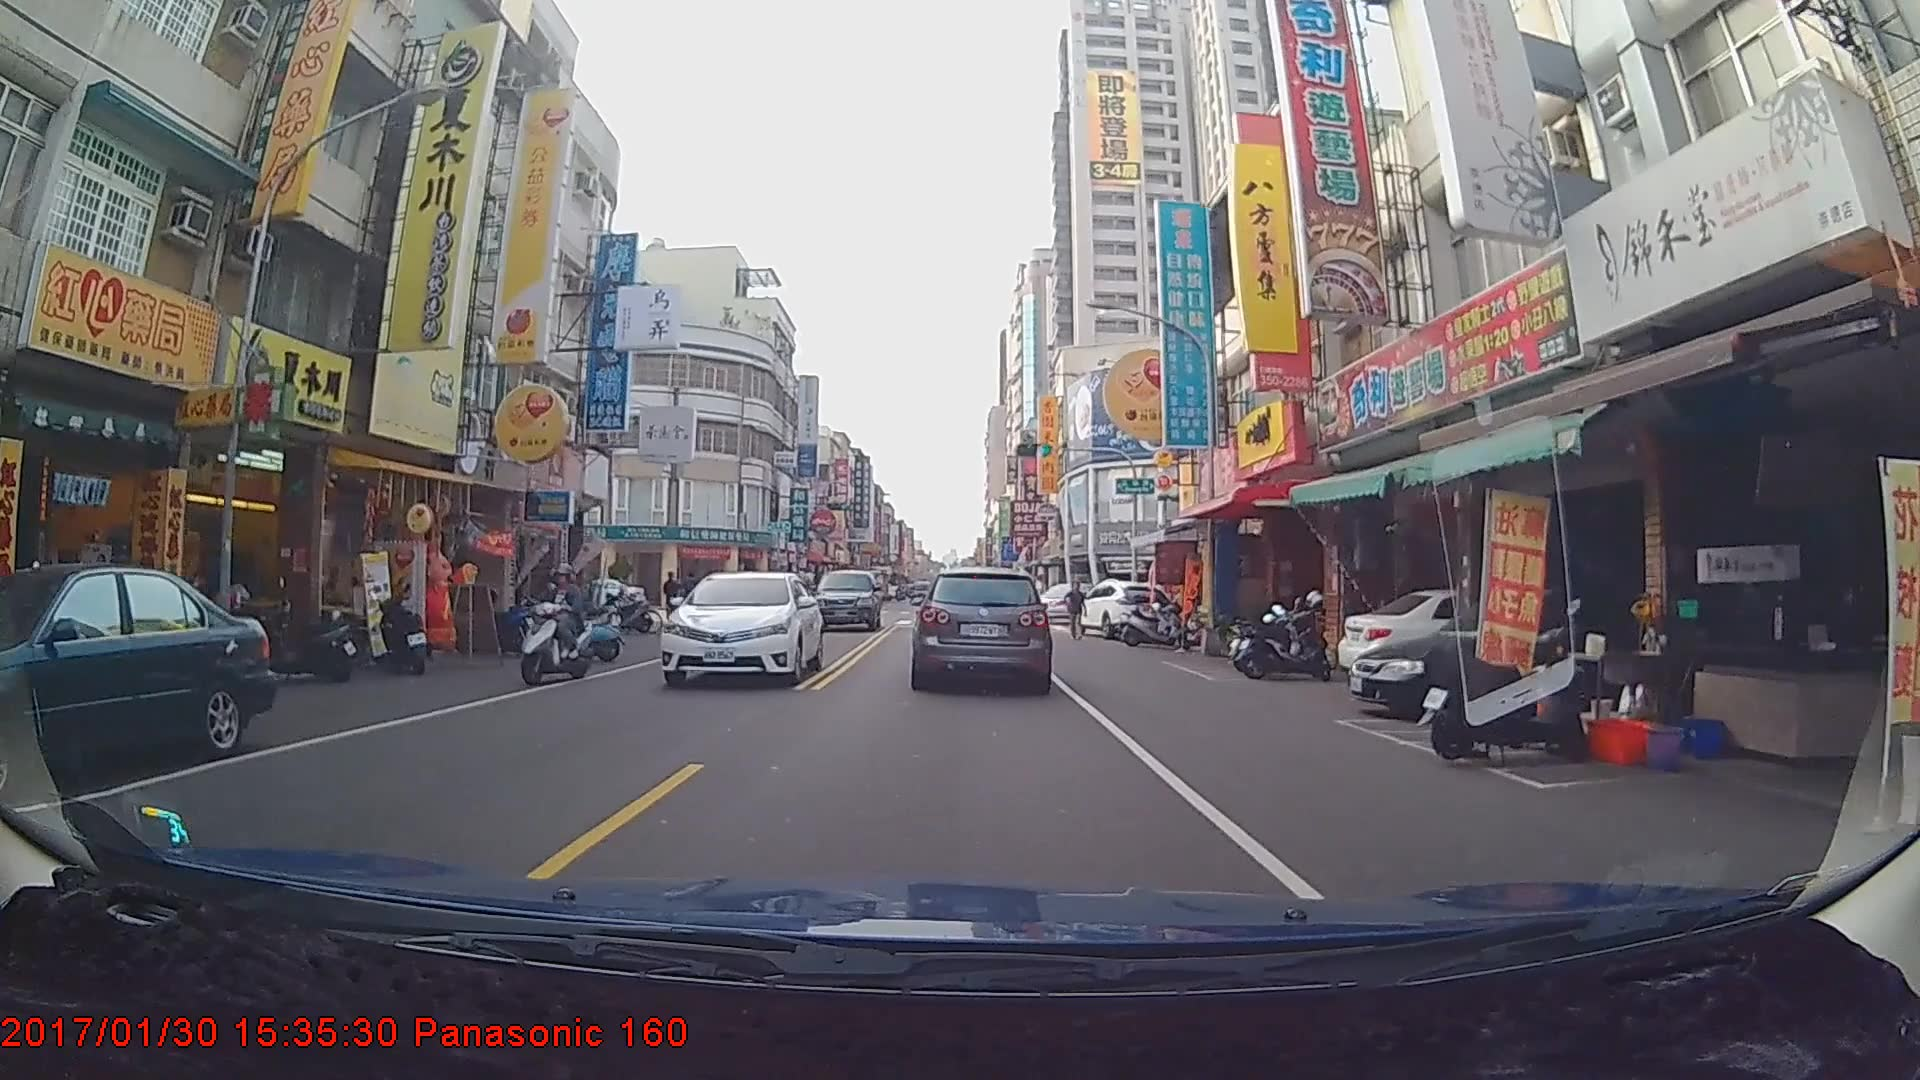pedestrian: (1066, 583, 1087, 644)
rider: (515, 562, 606, 692)
vehicle: (0, 564, 274, 782), (656, 569, 823, 689), (912, 566, 1051, 690), (1073, 578, 1174, 639), (807, 569, 882, 634)
